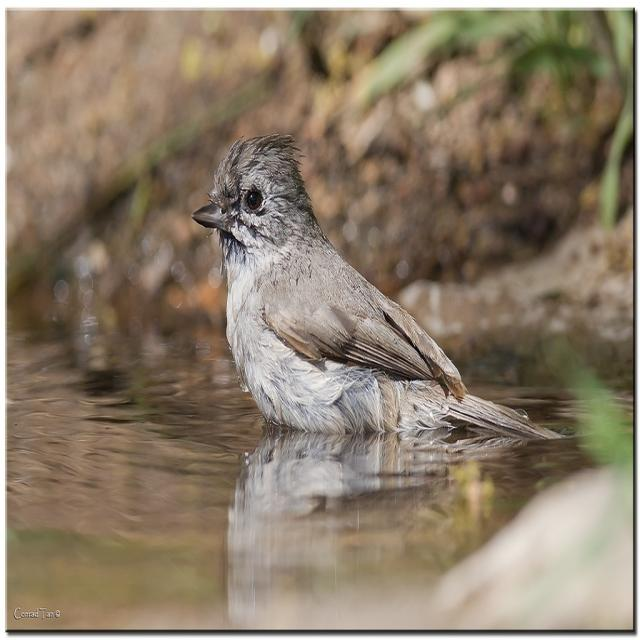bird: (184, 128, 574, 447)
